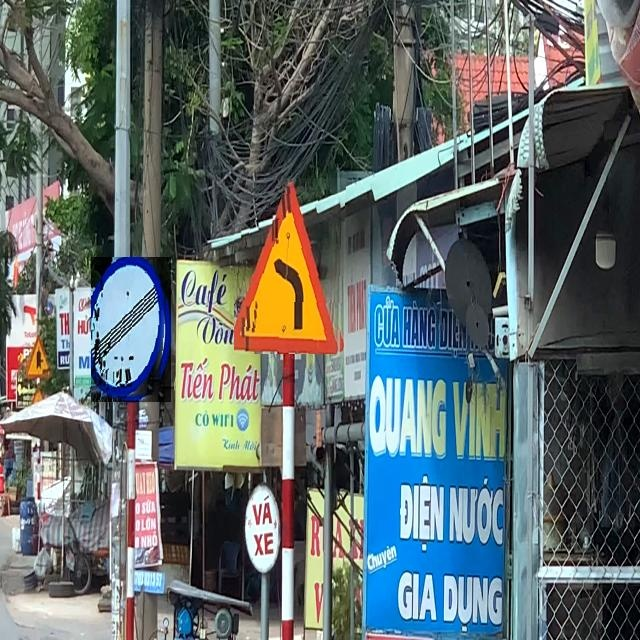bien_nguy_hiem: (234, 178, 346, 354), (92, 257, 172, 402)
